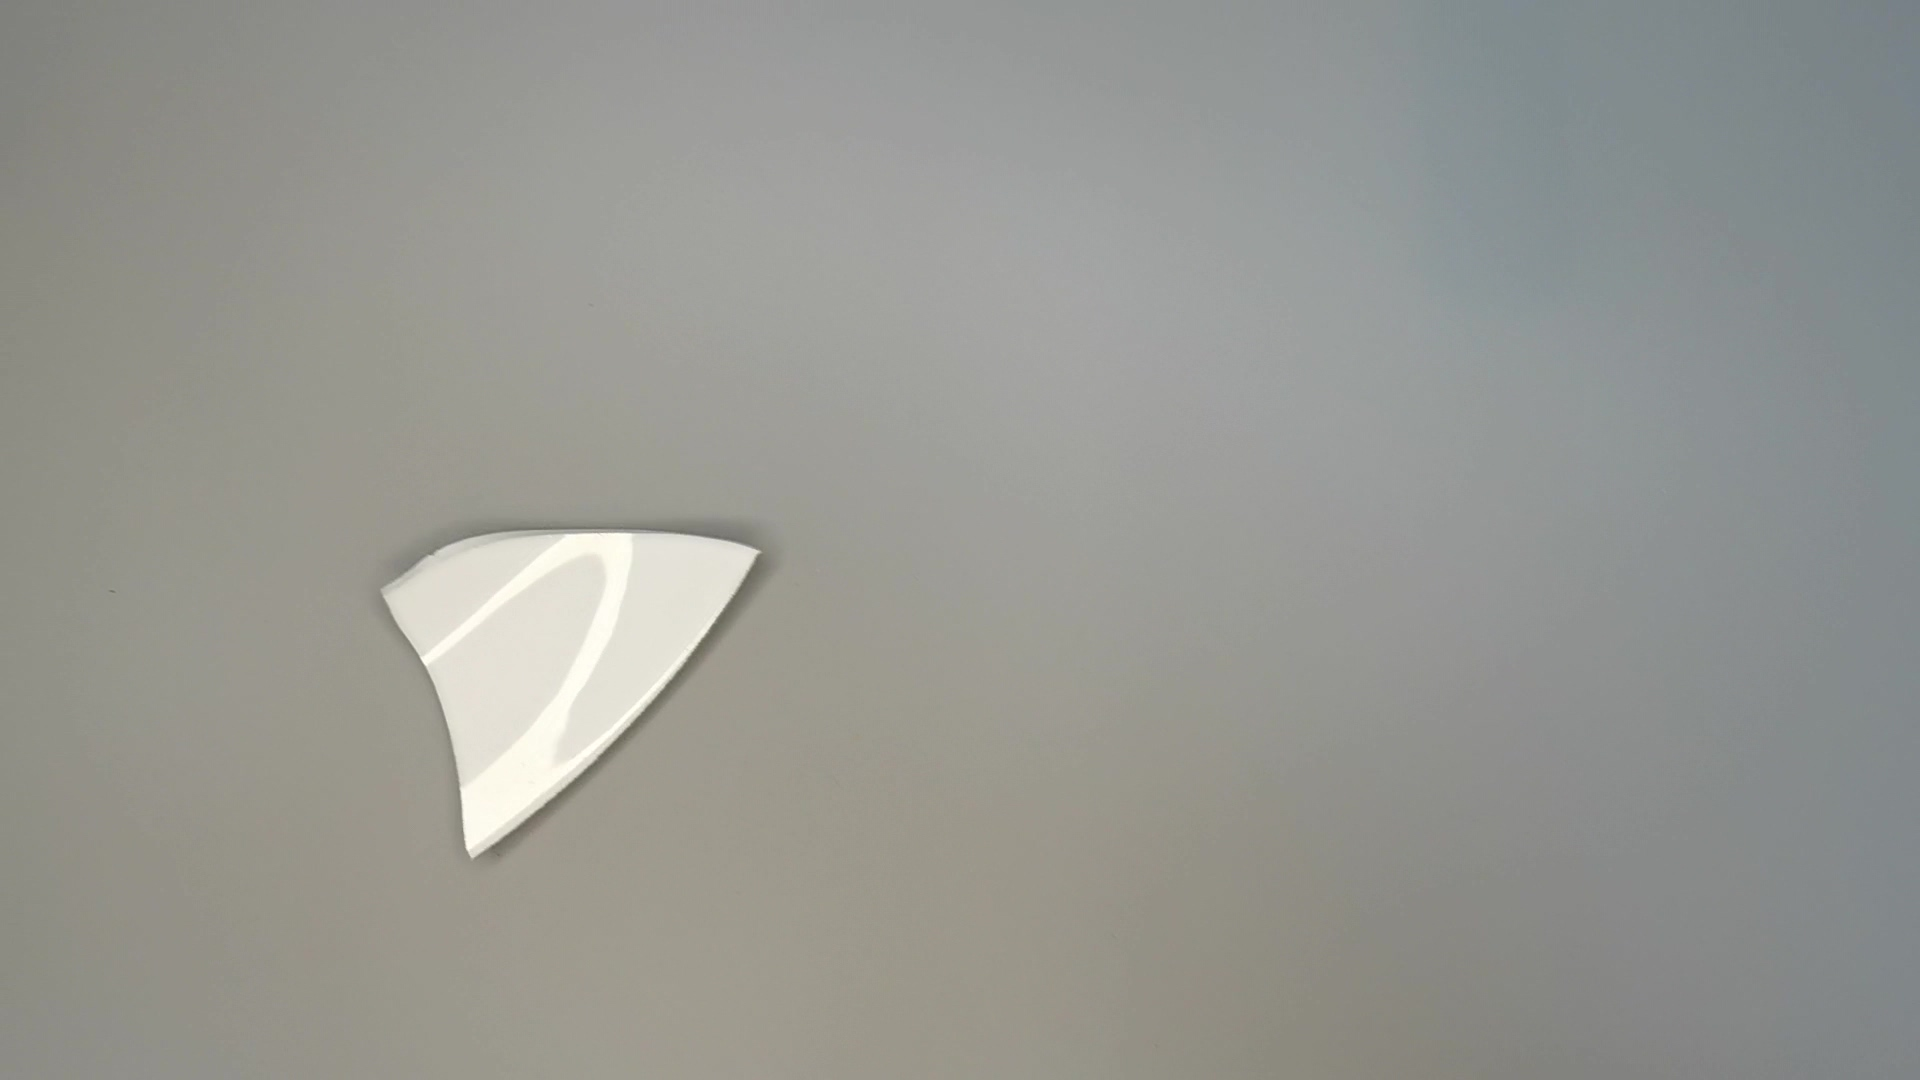ceramic: (369, 516, 764, 868)
